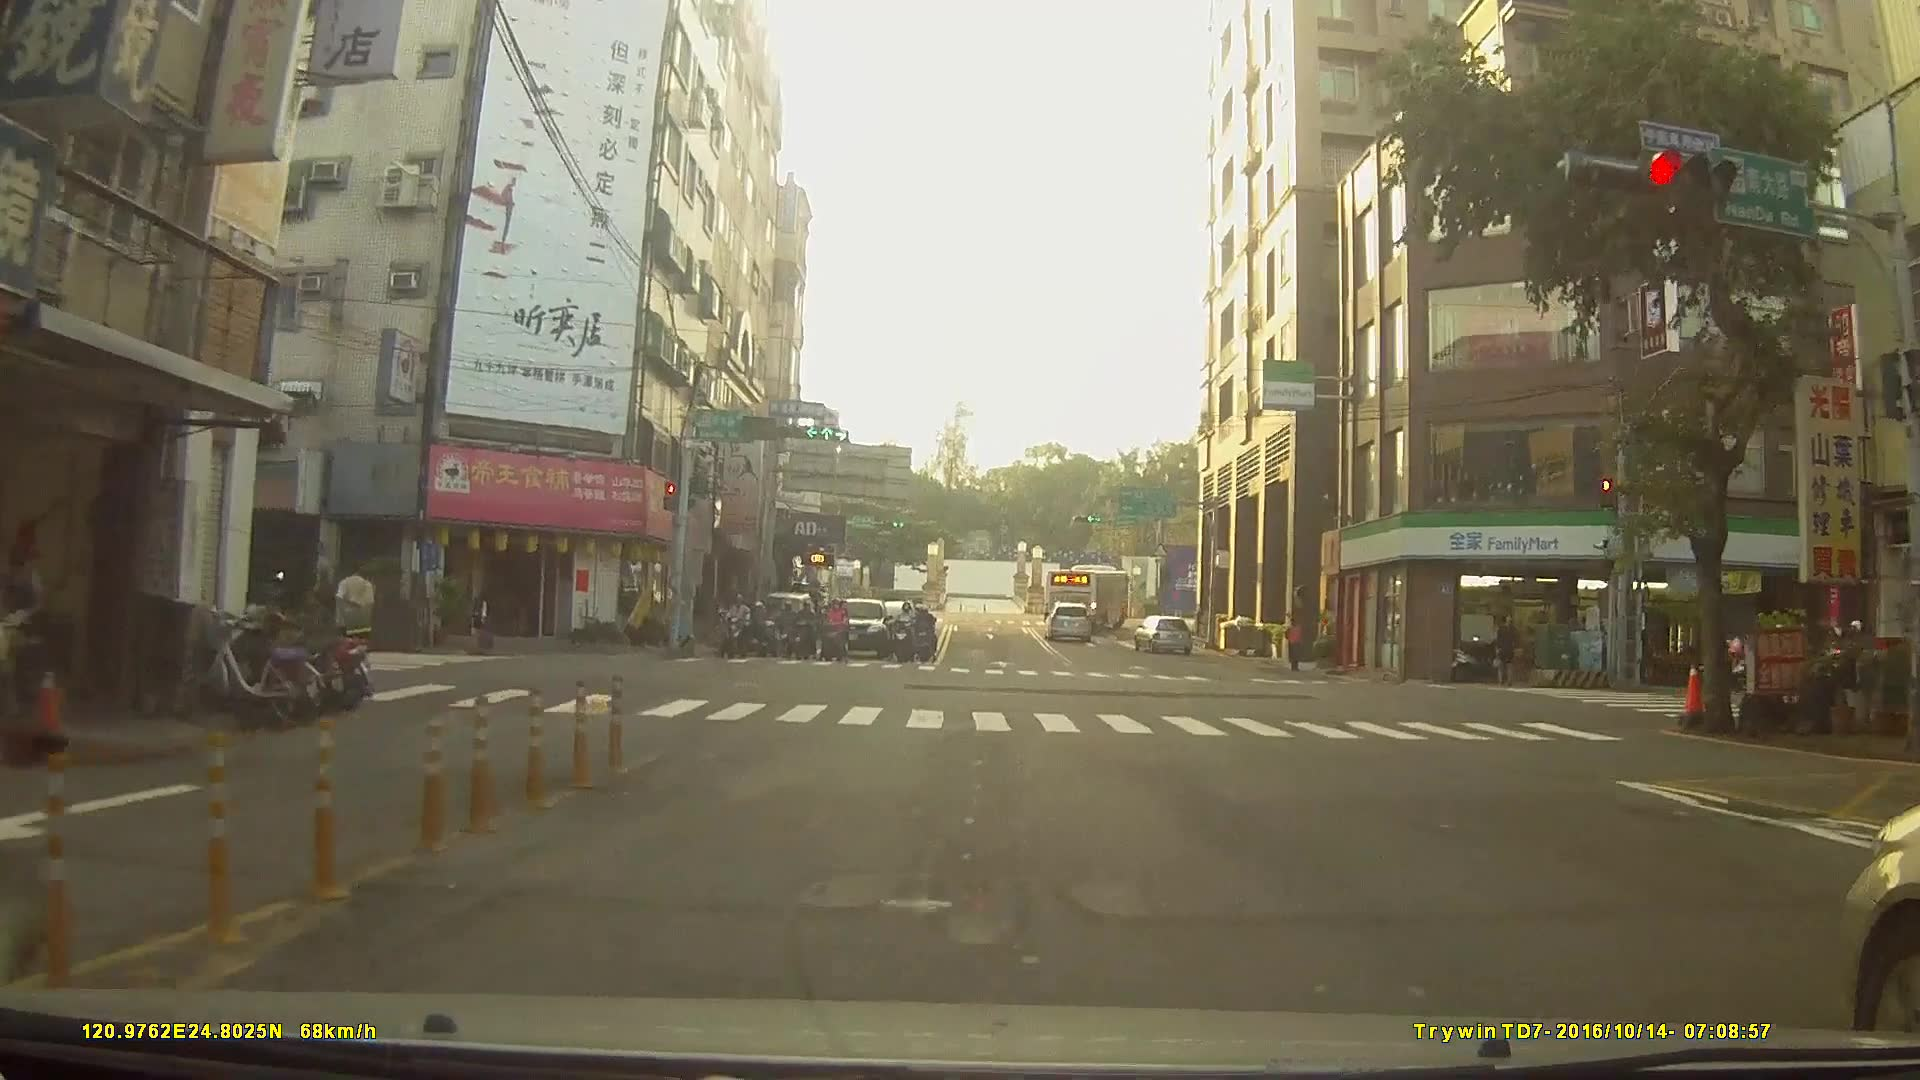pedestrian: (331, 553, 380, 681), (1494, 610, 1518, 688), (472, 596, 498, 657), (1285, 618, 1307, 675)
rider: (720, 597, 754, 664), (820, 602, 852, 670), (789, 606, 818, 664), (758, 594, 786, 652), (893, 601, 917, 667), (916, 604, 941, 665)
vehicle: (1043, 563, 1132, 627), (824, 593, 892, 660), (1132, 615, 1194, 655), (1045, 601, 1096, 643)
